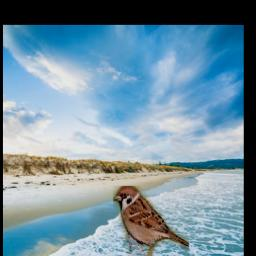Sparrow: (114, 187, 190, 256)
